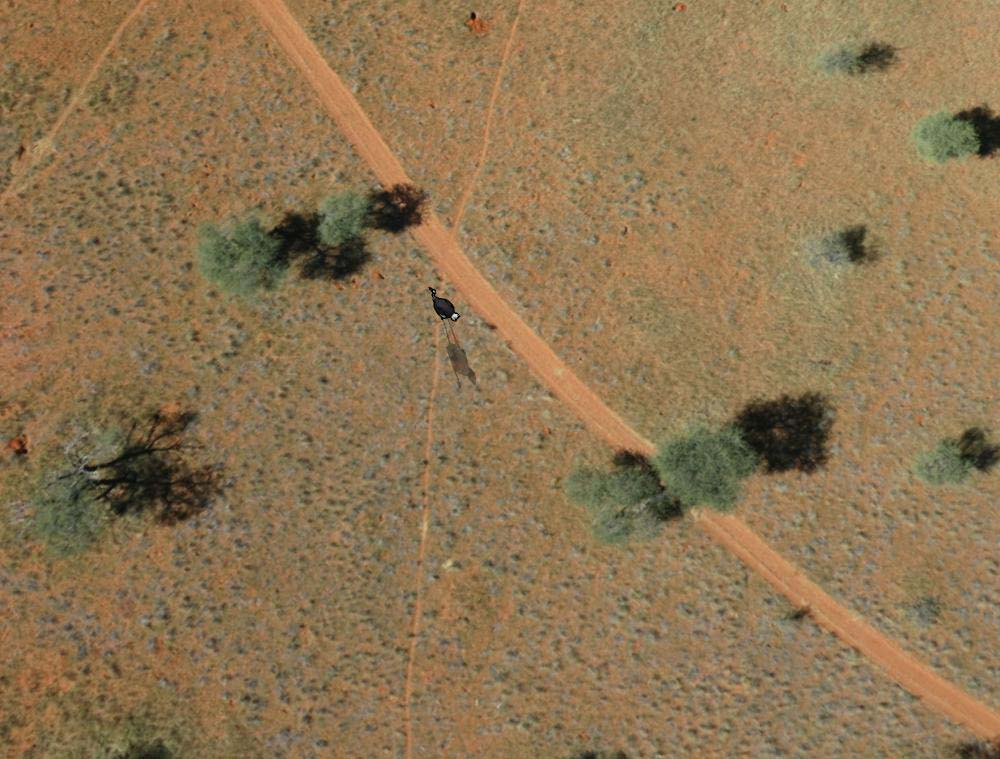springbok: (425, 282, 459, 326)
